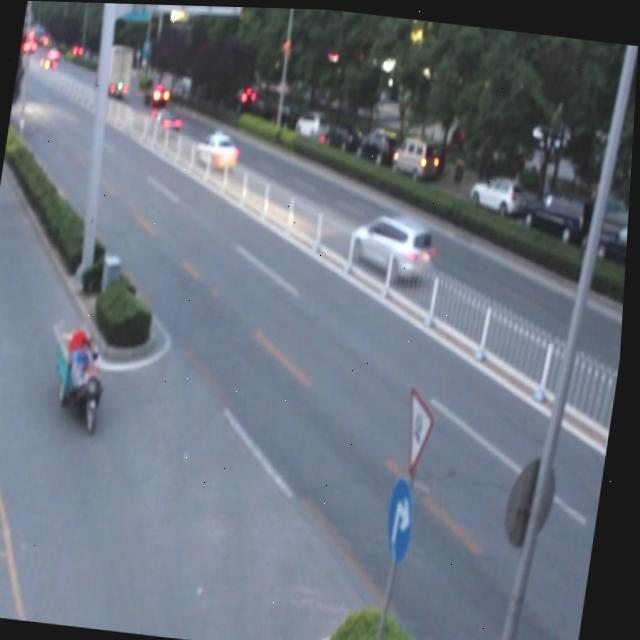car: (348, 203, 440, 281), (194, 125, 243, 171)
